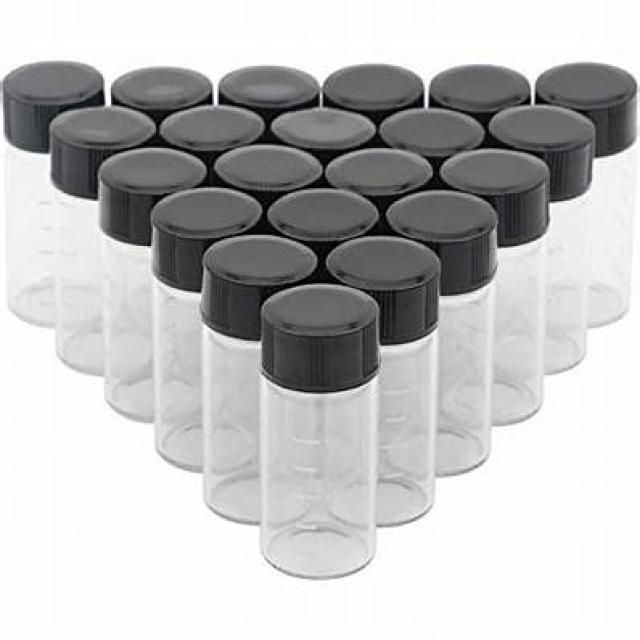vial: (441, 148, 558, 205), (323, 236, 442, 290), (261, 286, 381, 336), (488, 105, 602, 154), (391, 192, 502, 239), (327, 148, 438, 194), (200, 235, 313, 280), (156, 193, 271, 237), (272, 106, 389, 148), (379, 108, 489, 148), (270, 192, 377, 233), (433, 64, 528, 110), (215, 148, 322, 188), (324, 67, 426, 108), (55, 108, 157, 149), (541, 66, 631, 110), (160, 109, 264, 146), (100, 152, 204, 188), (115, 67, 210, 105), (10, 69, 102, 103), (228, 67, 314, 102)
